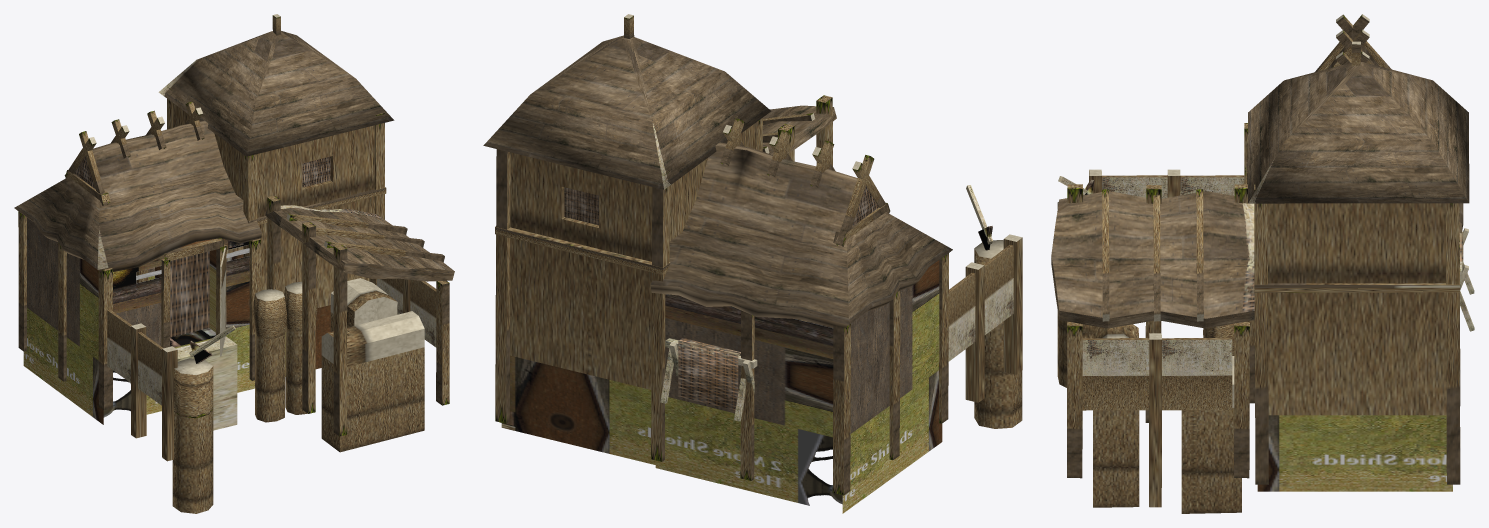
File: storehouse.dae
3 views of the same model, side by side, from view 1: azimuth 30°, elevation 25°; view 2: azimuth 150°, elevation 25°; view 3: azimuth 270°, elevation 25° (orthographic). The views are drawn at different scales.
Parts seen in each view (by area): view 1: store_house; view 2: store_house; view 3: store_house.
Part boxes in pixels (x1,y1,x2,y2): store_house: (14,14,454,513); store_house: (483,14,1022,513); store_house: (1051,14,1474,513).
Size of the model in its own units: 15.39 by 14.93 by 17.75.
